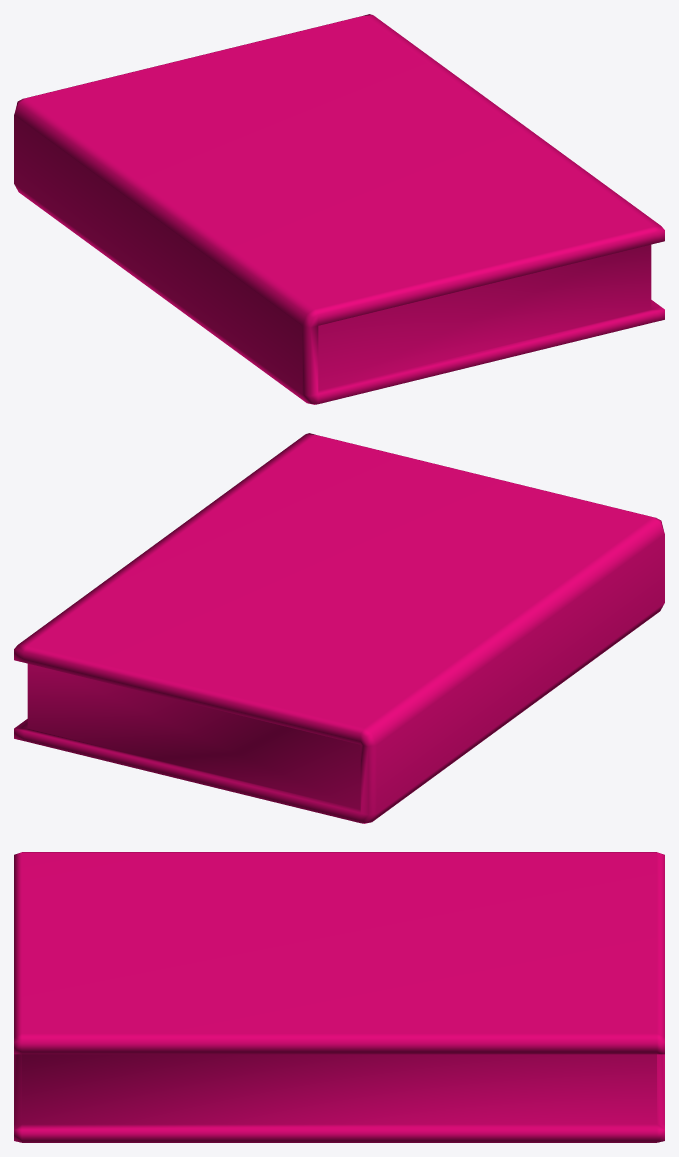
File: Book_Close_02.fbx
3 views of the same model, one above another, from view 1: azimuth 30°, elevation 25°; view 2: azimuth 150°, elevation 25°; view 3: azimuth 270°, elevation 25° (orthographic). The views are drawn at different scales.
Parts seen in each view (by area): view 1: Book_Close_02; view 2: Book_Close_02; view 3: Book_Close_02.
Boxes of the visible parts, x1,y1,x2,y2 form: Book_Close_02: (14, 14, 664, 404); Book_Close_02: (14, 433, 664, 823); Book_Close_02: (14, 852, 664, 1142).
Bounding box in the file's own units: 22.37 × 5.7 × 31.85.
